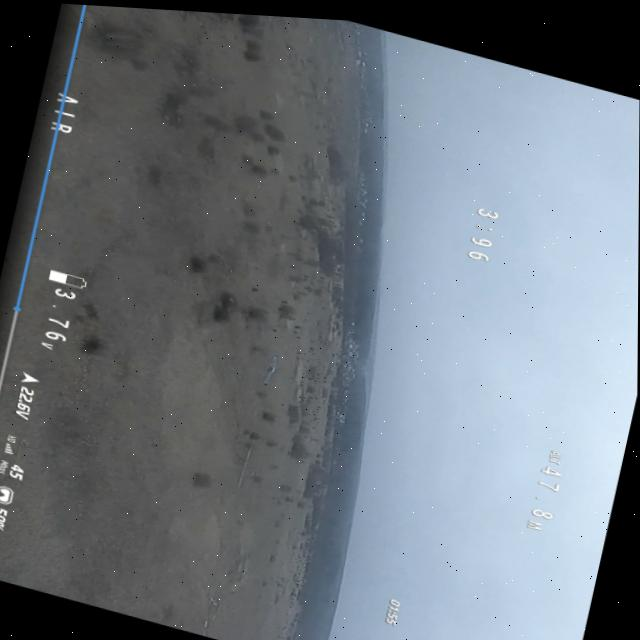planedrone: (257, 350, 289, 390)
